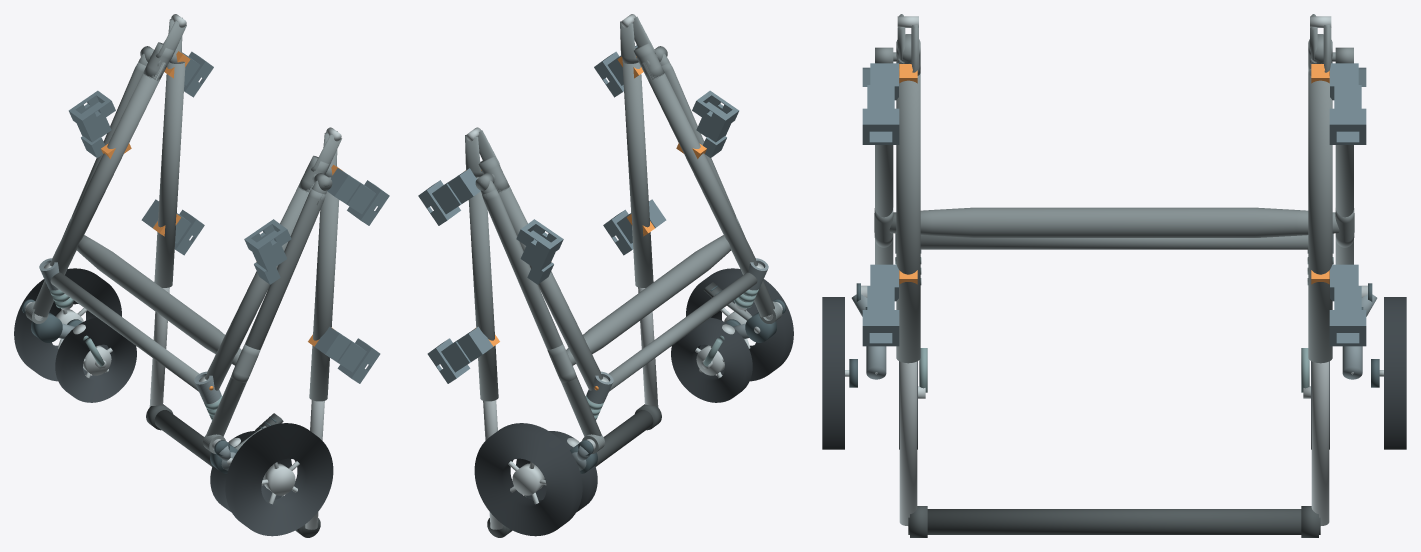
Rendered from w650_state3_wheel_S.glb.
3 renders of one model, left to right at view 1: azimuth 30°, elevation 25°; view 2: azimuth 150°, elevation 25°; view 3: azimuth 270°, elevation 25°, orthographic. The views are drawn at different scales.
Visible parts, largest first — view 1: RL_tire.011, FR_tire.011, main_upper_1.012, V46_rearbar.011, main_lower_1.012, V46_rear_leg_-1.011, main_upper_-1.012, RR_tire.011, main_lower_-1.012, front_fixed_round_tube.011, Universal_Cabin_Receiver_H_-1, Universal_Cabin_Receiver_M_-1 (+18 smaller); view 2: RR_tire.011, FL_tire.011, main_upper_-1.012, V46_rearbar.011, main_lower_-1.012, V46_rear_leg_1.011, main_upper_1.012, RL_tire.011, main_lower_1.012, front_fixed_round_tube.011, Universal_Cabin_Receiver_H_1, Universal_Cabin_Receiver_M_1 (+18 smaller); view 3: V46_rearbar.011, round_handle.013, main_upper_1.012, main_upper_-1.012, front_fixed_round_tube.011, RL_tire.011, RR_tire.011, handle_slider_1.013, handle_slider_-1.013, Universal_Cabin_Receiver_H_1, Universal_Cabin_Receiver_H_-1, Universal_Cabin_Receiver_M_-1 (+3 smaller).
Part boxes in pixels (x1,y1,x2,y2): RL_tire.011: (225, 423, 333, 536); FR_tire.011: (55, 317, 136, 402); main_upper_1.012: (154, 62, 185, 287); V46_rearbar.011: (76, 235, 241, 365); main_lower_1.012: (50, 62, 165, 274); V46_rear_leg_-1.011: (206, 189, 325, 436); main_upper_-1.012: (309, 177, 339, 401); RR_tire.011: (14, 268, 121, 381); main_lower_-1.012: (205, 183, 314, 390); front_fixed_round_tube.011: (50, 272, 199, 391); Universal_Cabin_Receiver_H_-1: (314, 326, 380, 383); Universal_Cabin_Receiver_M_-1: (327, 168, 389, 225); RR_tire.011: (474, 423, 582, 536); FL_tire.011: (671, 317, 752, 402); main_upper_-1.012: (622, 62, 653, 287); V46_rearbar.011: (566, 235, 731, 365); main_lower_-1.012: (642, 62, 757, 274); V46_rear_leg_1.011: (482, 189, 601, 436); main_upper_1.012: (468, 177, 498, 401); RL_tire.011: (686, 268, 793, 381); main_lower_1.012: (493, 183, 602, 390); front_fixed_round_tube.011: (608, 272, 757, 391); Universal_Cabin_Receiver_H_1: (427, 326, 493, 383); Universal_Cabin_Receiver_M_1: (418, 168, 480, 225); V46_rearbar.011: (889, 207, 1339, 237); round_handle.013: (908, 509, 1320, 534); main_upper_1.012: (1308, 73, 1332, 363); main_upper_-1.012: (896, 73, 920, 363); front_fixed_round_tube.011: (920, 235, 1308, 249); RL_tire.011: (822, 297, 844, 449); RR_tire.011: (1384, 297, 1406, 449); handle_slider_1.013: (1311, 361, 1329, 525); handle_slider_-1.013: (899, 361, 917, 525); Universal_Cabin_Receiver_H_1: (1329, 264, 1366, 346); Universal_Cabin_Receiver_H_-1: (862, 264, 899, 346); Universal_Cabin_Receiver_M_-1: (862, 63, 899, 144).
Bounding box in the file's own units: 0.3574 × 0.7726 × 0.766.
